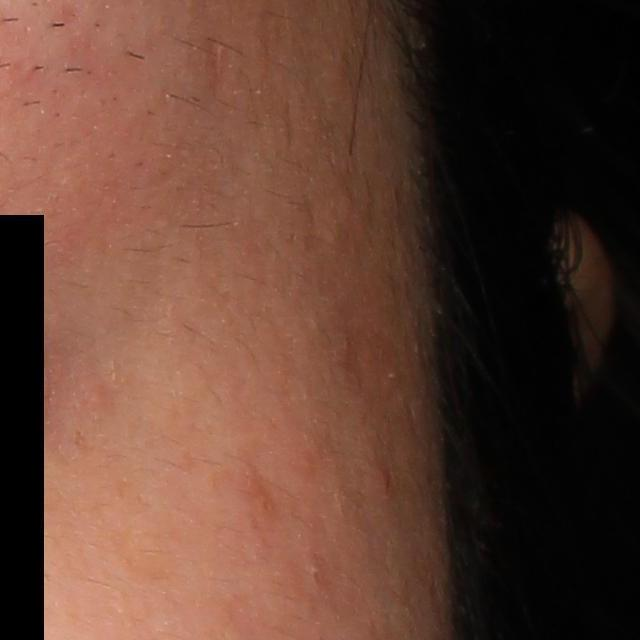papule: (376, 462, 391, 496)
